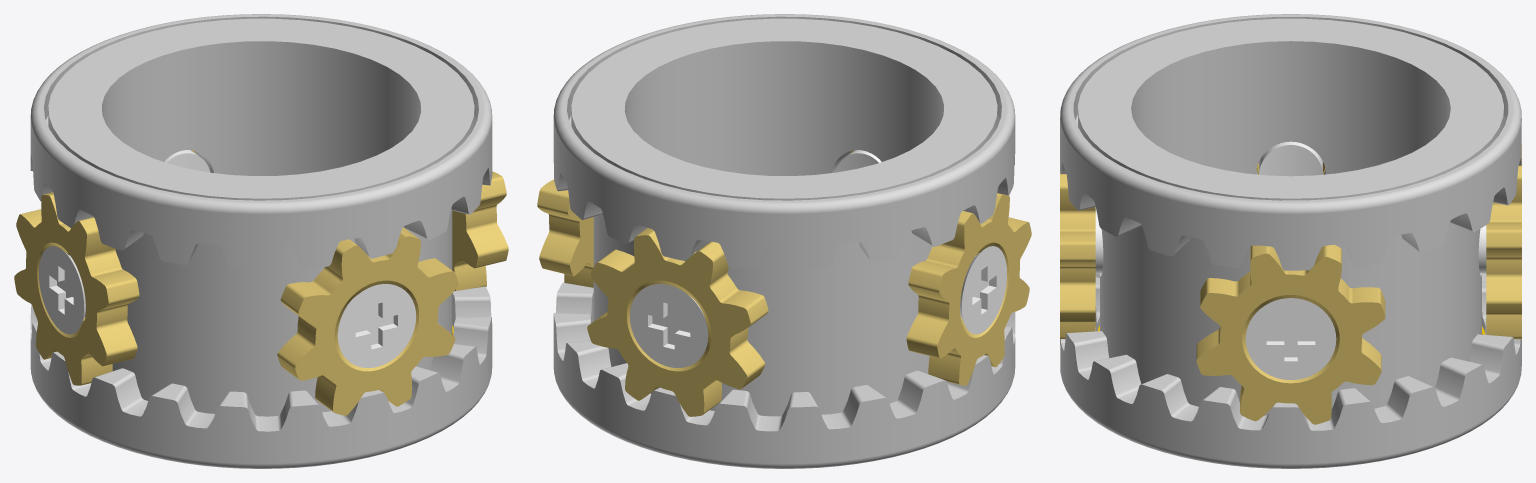
Rendered from Gear Ring1.glb.
3 views of the same model, side by side, from view 1: azimuth 30°, elevation 25°; view 2: azimuth 150°, elevation 25°; view 3: azimuth 270°, elevation 25° (orthographic).
Visible parts, largest first — view 1: matte_silver, polished_gold, color; view 2: matte_silver, polished_gold, color; view 3: matte_silver, polished_gold, color.
Part boxes in pixels (x1,y1,x2,y2): matte_silver: [30, 14, 492, 468]; polished_gold: [14, 150, 508, 415]; color: [39, 150, 416, 367]; matte_silver: [553, 14, 1015, 468]; polished_gold: [537, 150, 1031, 416]; color: [630, 150, 1006, 367]; matte_silver: [1060, 14, 1521, 468]; polished_gold: [1060, 144, 1521, 424]; color: [1095, 141, 1486, 379].
Bounding box in the file's own units: 0.026 × 0.0165 × 0.026.
